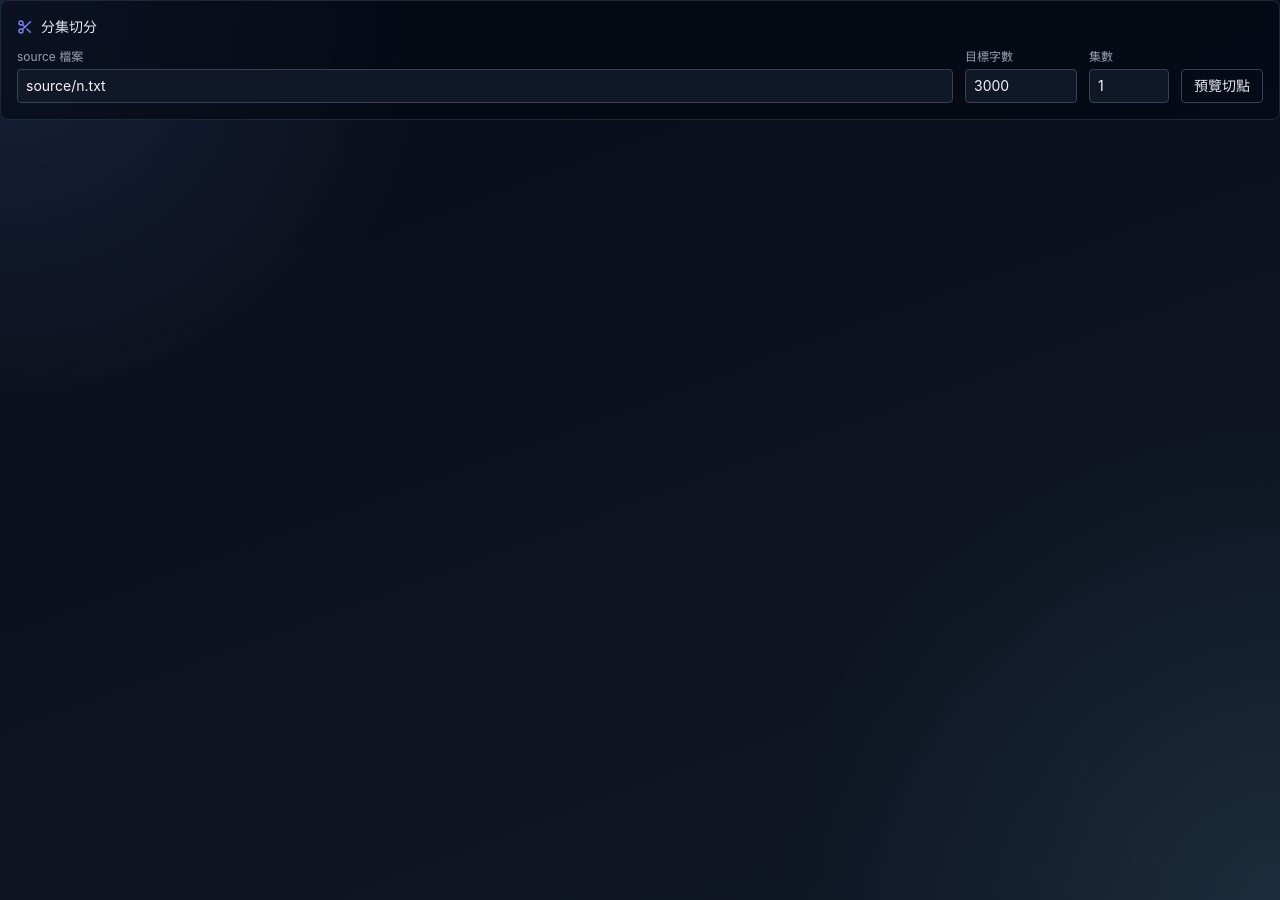
Test: EpisodeSplitPanel › shows an error when preview fails
What coordinates should you click on to do the following:
click the button "預覽切點"
I would click on:
 (1222, 86)
Its box is [1181,69,1263,103].
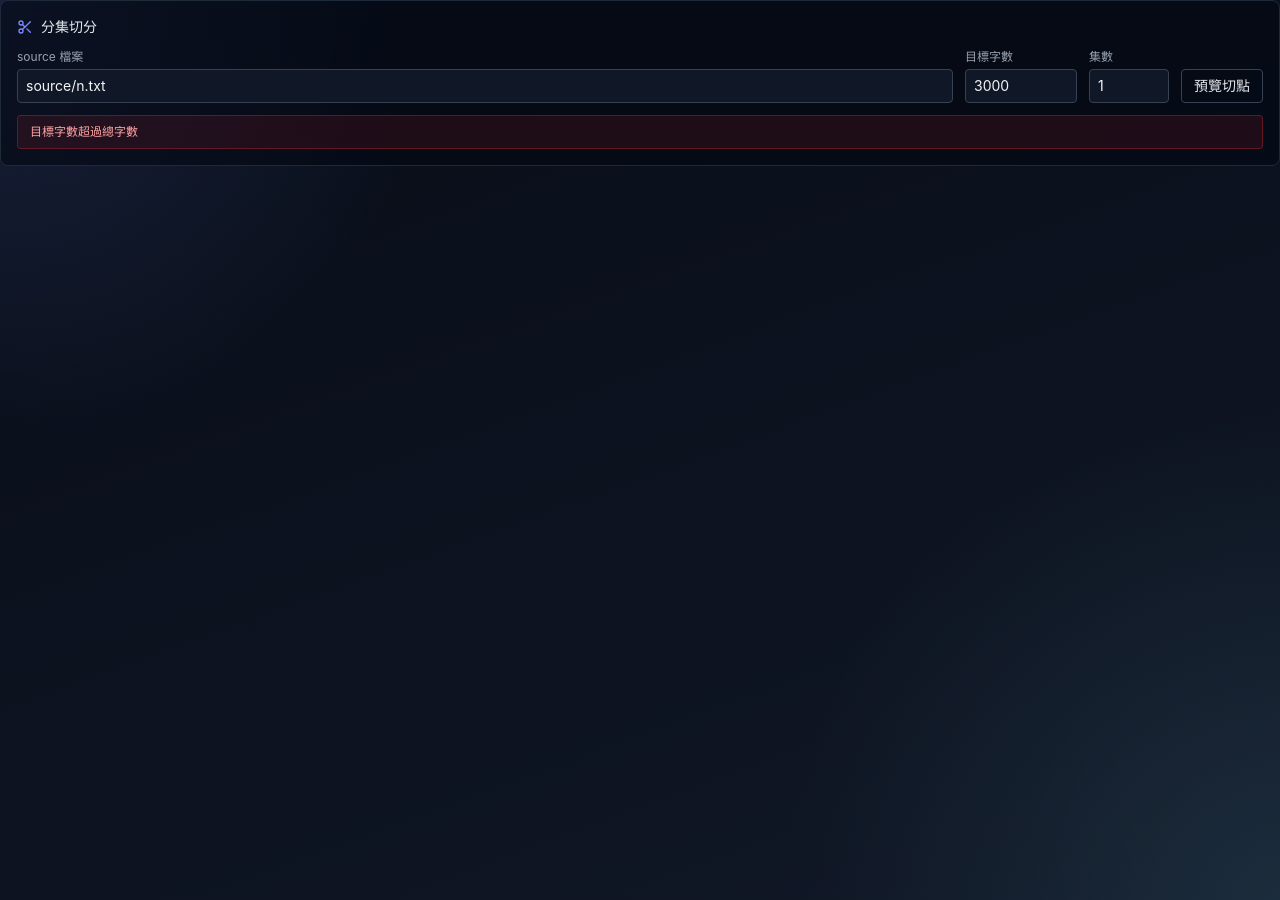
Result: the text "目標字數超過總字數" is shown at [17,115,1263,149]
